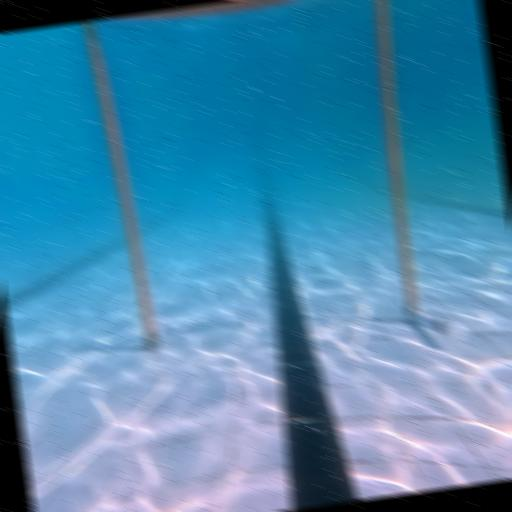gate: (81, 0, 446, 377)
